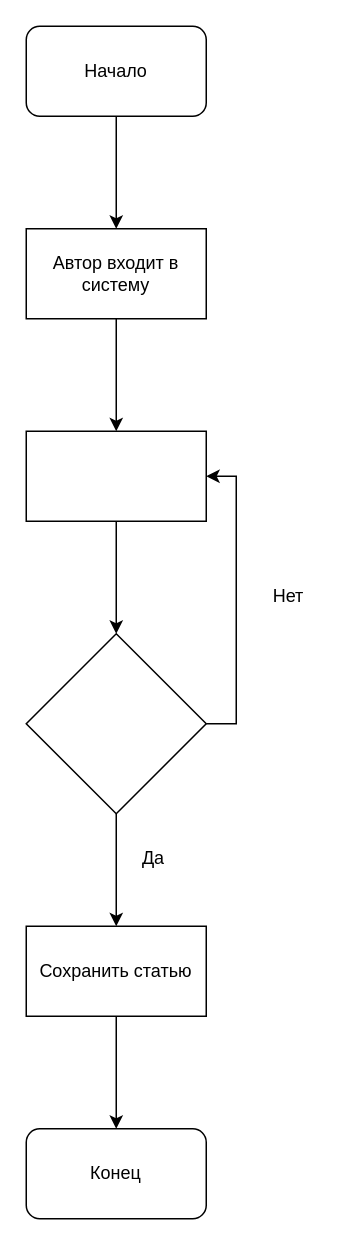
Some shapes in this 345 by 1245 pixel diagram are drawn without their labels. Each missing label, with the centre of its shape:
Автор вводит название, текст и рубрику статьи: point 115,475
Все поля заполнены?: point 115,723
